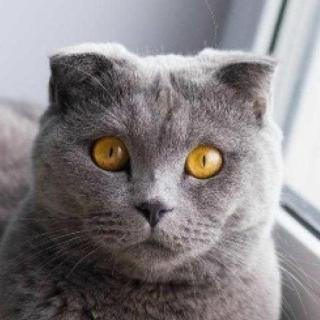cat: (34, 42, 283, 290)
nose: (134, 188, 177, 228)
